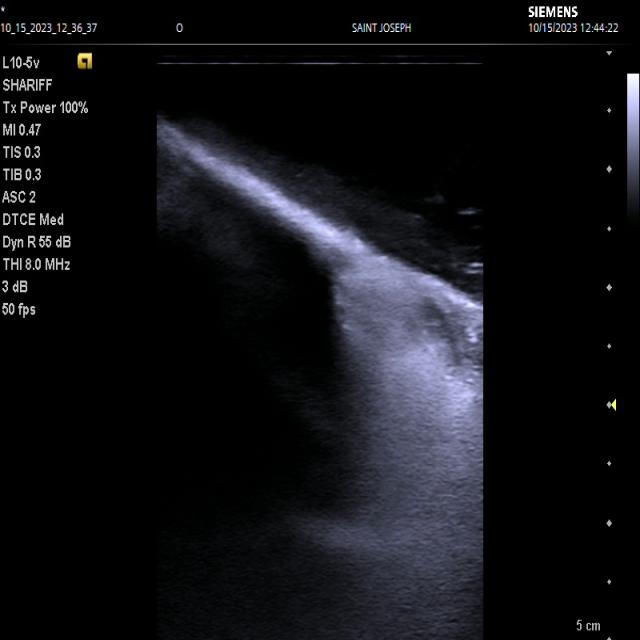tissue: (142, 124, 482, 640)
